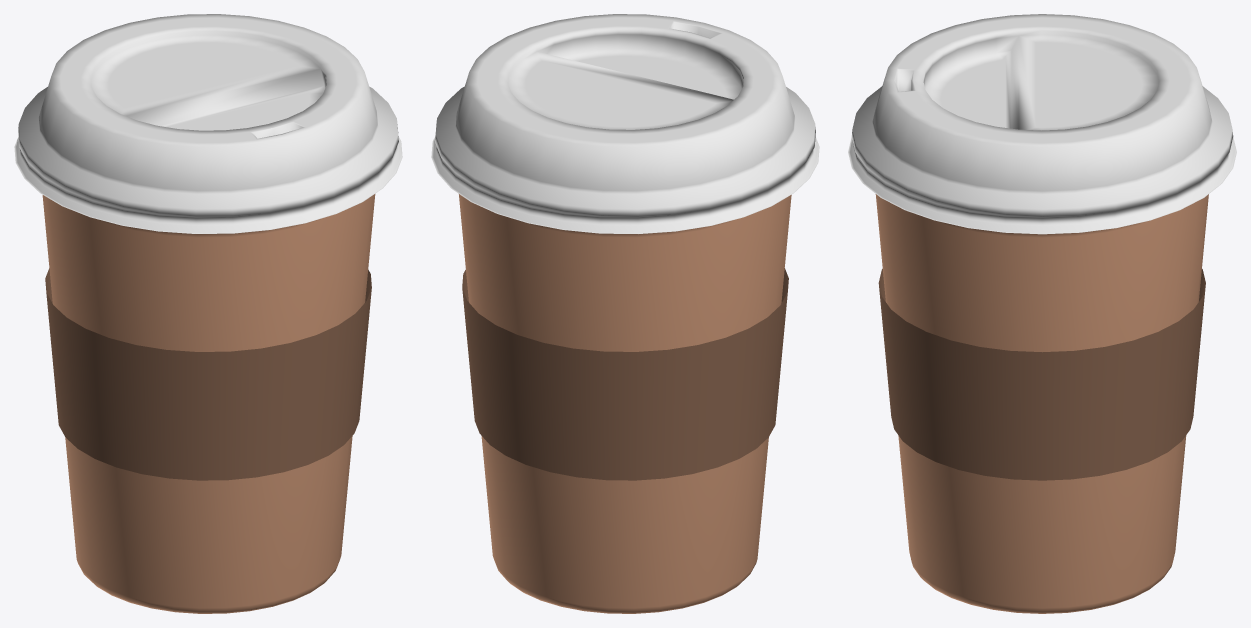
Rendered from coffe.glb.
3 views of the same model, side by side, from view 1: azimuth 30°, elevation 25°; view 2: azimuth 150°, elevation 25°; view 3: azimuth 270°, elevation 25° (orthographic).
Parts seen in each view (by area): view 1: Mug, Lid, Band; view 2: Mug, Lid, Band; view 3: Mug, Lid, Band.
Boxes of the visible parts, <box> form: Mug: <box>42,194,375,613</box>; Lid: <box>14,14,402,233</box>; Band: <box>45,268,371,480</box>; Mug: <box>459,194,791,613</box>; Lid: <box>431,14,819,233</box>; Band: <box>462,268,788,480</box>; Mug: <box>875,194,1208,613</box>; Lid: <box>848,14,1236,234</box>; Band: <box>878,269,1205,480</box>.
Bounding box in the file's own units: 0.9834 × 1.34 × 0.9834.
